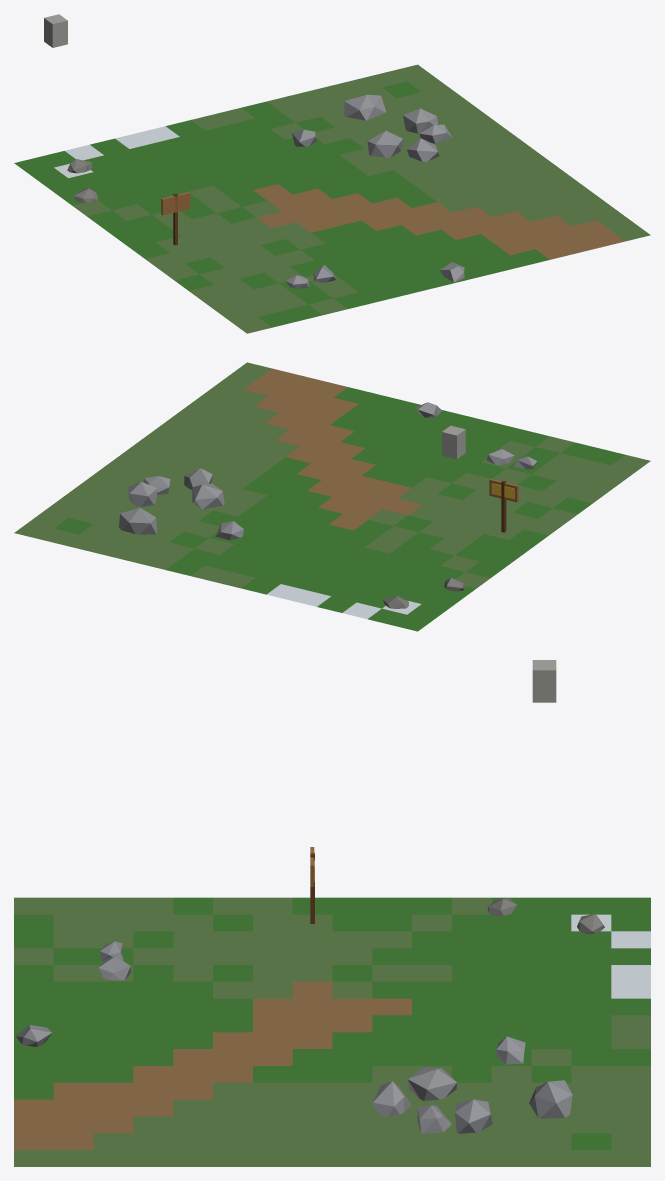
Rendered from chunk_7_2.glb.
3 renders of one model, top to bottom at view 1: azimuth 30°, elevation 25°; view 2: azimuth 150°, elevation 25°; view 3: azimuth 270°, elevation 25°, orthographic. The views are drawn at different scales.
Parts seen in each view (by area): view 1: chunk_7_2; view 2: chunk_7_2; view 3: chunk_7_2.
Boxes of the visible parts, x1=… form: chunk_7_2: x1=14, y1=14, x2=650, y2=333; chunk_7_2: x1=14, y1=362, x2=650, y2=631; chunk_7_2: x1=14, y1=660, x2=650, y2=1166.
Size of the model in its own units: 16.18 by 6.98 by 16.
